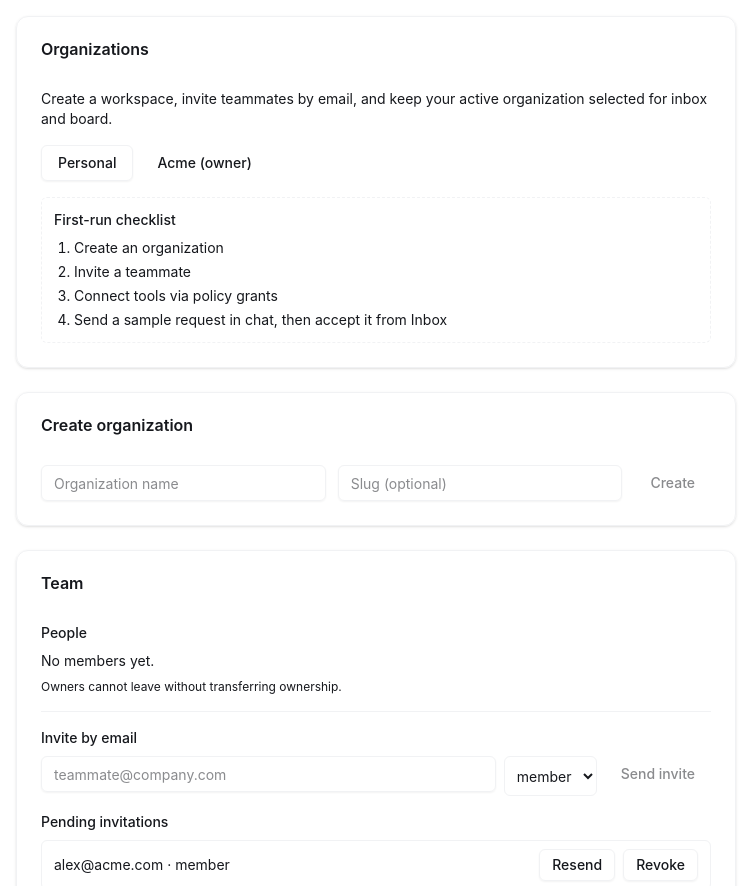
it: OrganizationsPage › resends a pending invitation
The image size is (753, 886).
Click the button with test id "organization-resend-invite" at {"x": 577, "y": 865}, box [539,849,615,881]
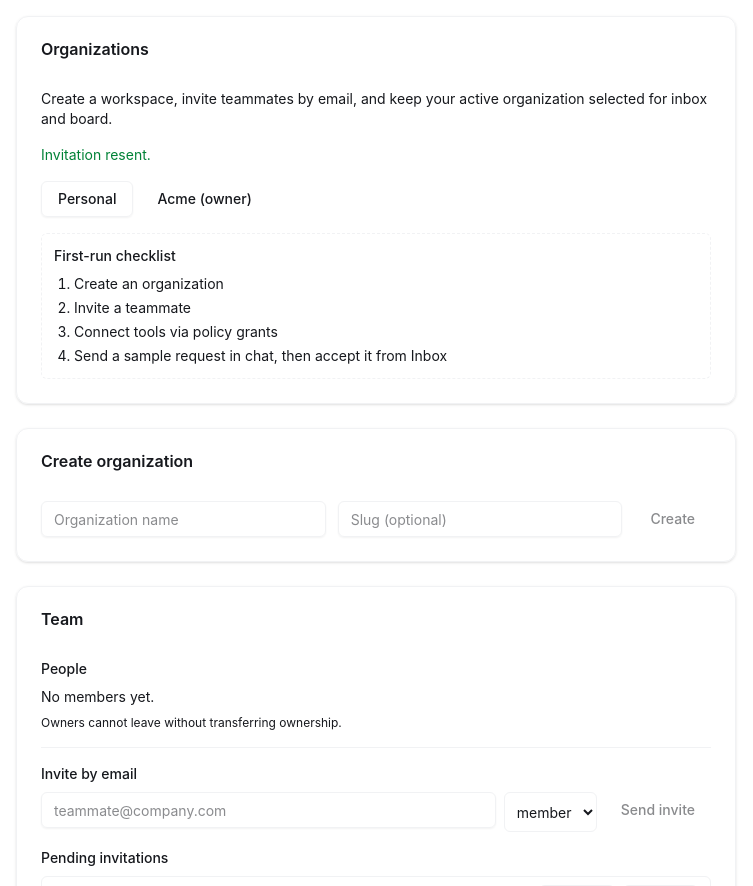
Expected: the text "Invitation resent." is shown, [41,146,151,163]
